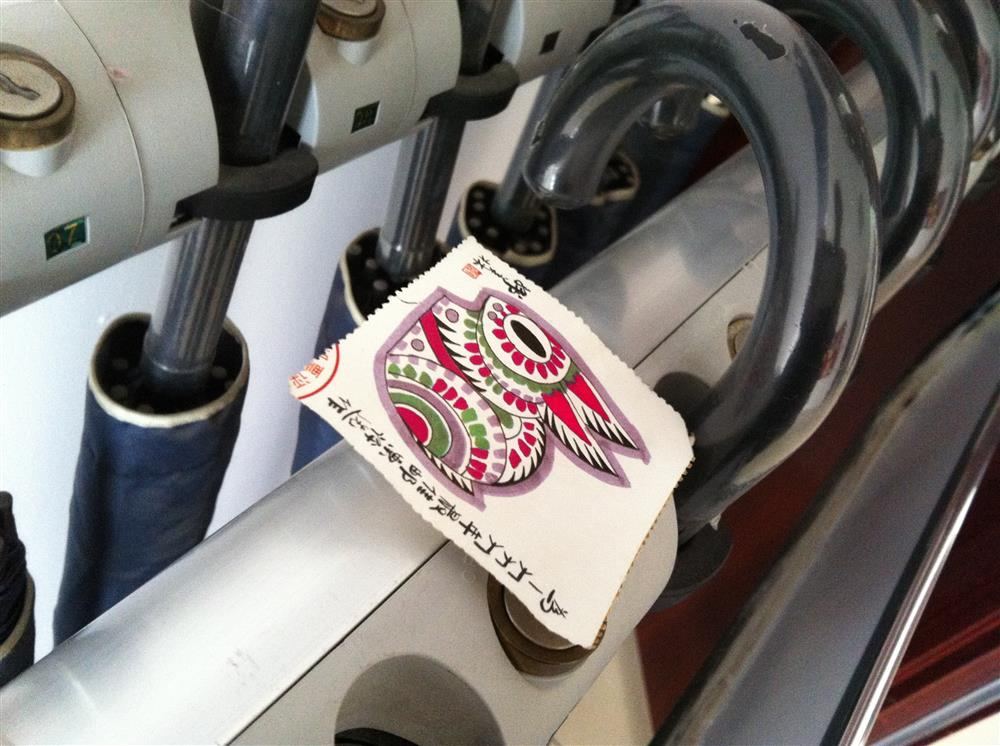stamp: (292, 234, 695, 647)
